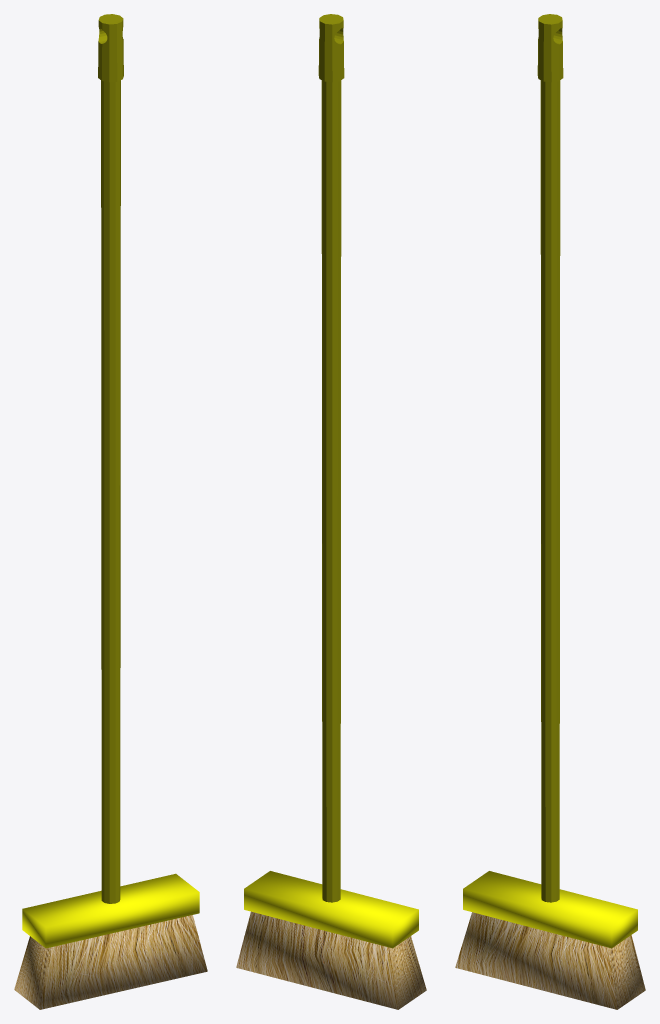
Rendered from broome.glb.
3 renders of one model, left to right at view 1: azimuth 30°, elevation 25°; view 2: azimuth 150°, elevation 25°; view 3: azimuth 330°, elevation 25°, orthographic.
Parts seen in each view (by area): view 1: pCylinder3, pCube466, pCube465; view 2: pCylinder3, pCube466, pCube465; view 3: pCylinder3, pCube466, pCube465.
Part boxes in pixels (left/top/right/bottom): pCylinder3: left=98, top=14, right=123, bottom=903; pCube466: left=14, top=915, right=207, bottom=1009; pCube465: left=22, top=873, right=199, bottom=948; pCylinder3: left=318, top=14, right=344, bottom=902; pCube466: left=236, top=911, right=426, bottom=1009; pCube465: left=244, top=871, right=418, bottom=948; pCylinder3: left=537, top=14, right=563, bottom=902; pCube466: left=455, top=912, right=645, bottom=1009; pCube465: left=463, top=871, right=637, bottom=948.
Bounding box in the file's own units: 0.2385 × 1.32 × 0.074.
3 materials, 1 textured.
